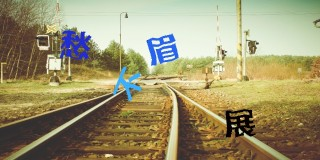不: (113, 66, 141, 101)
展: (224, 109, 257, 138)
愁: (60, 30, 91, 60)
眉: (146, 33, 180, 65)
